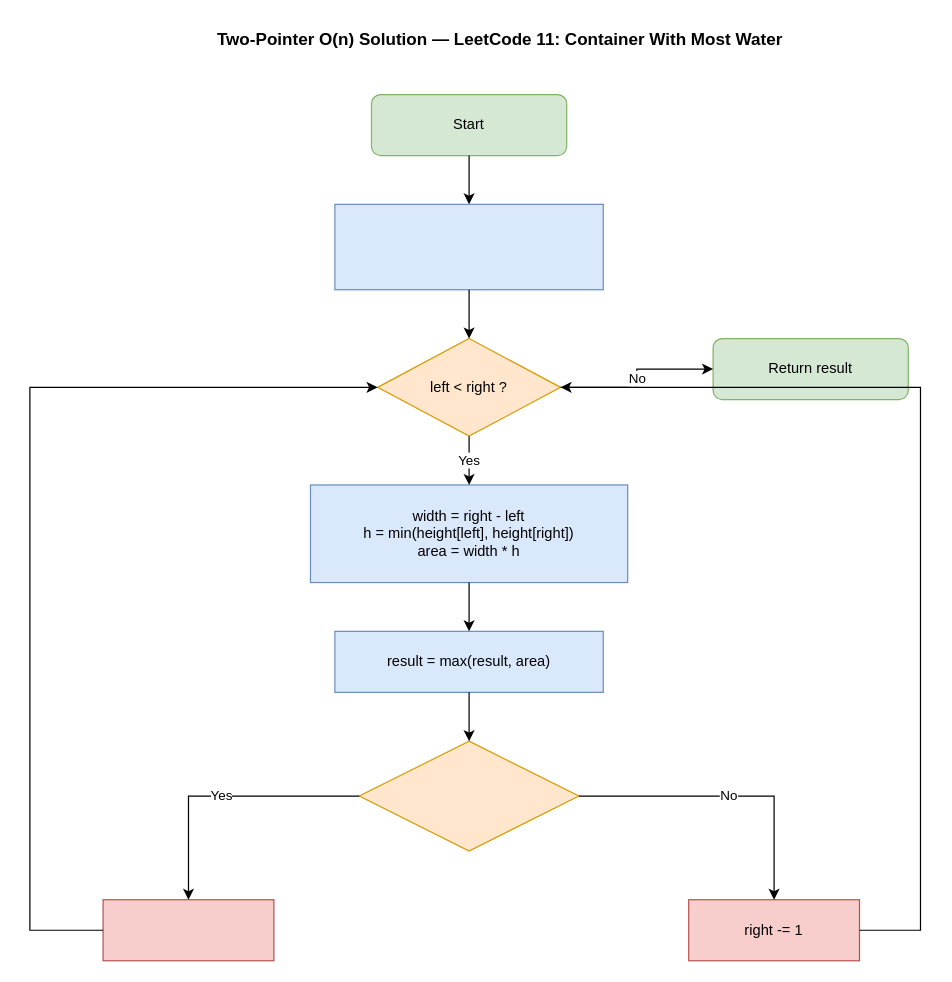
This 952x982 diagram has some shape labels left out. The shapes that lost their labels are listed below. From the top down, each one's centre as x and y in pixels, then its label:
point (468, 246): left = 0 right = len(height) - 1 result = 0
point (468, 795): height[left] < height[right] ?
point (188, 930): left += 1
